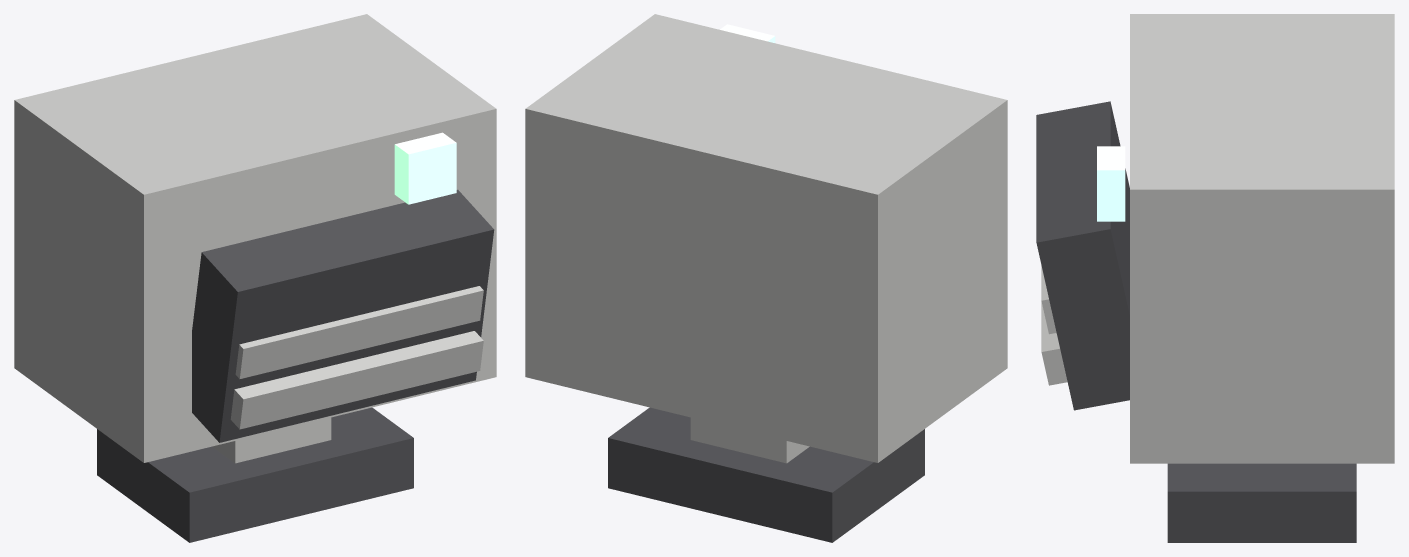
File: motion_sensor.glb
3 views of the same model, side by side, from view 1: azimuth 30°, elevation 25°; view 2: azimuth 150°, elevation 25°; view 3: azimuth 270°, elevation 25° (orthographic). The views are drawn at different scales.
Parts seen in each view (by area): view 1: motion_sensor; view 2: motion_sensor; view 3: motion_sensor.
Part boxes in pixels (x1,y1,x2,y2): motion_sensor: (14, 14, 496, 542); motion_sensor: (525, 14, 1007, 542); motion_sensor: (1036, 14, 1394, 542).
Bounding box in the file's own units: 0.22 × 0.225 × 0.1895.
